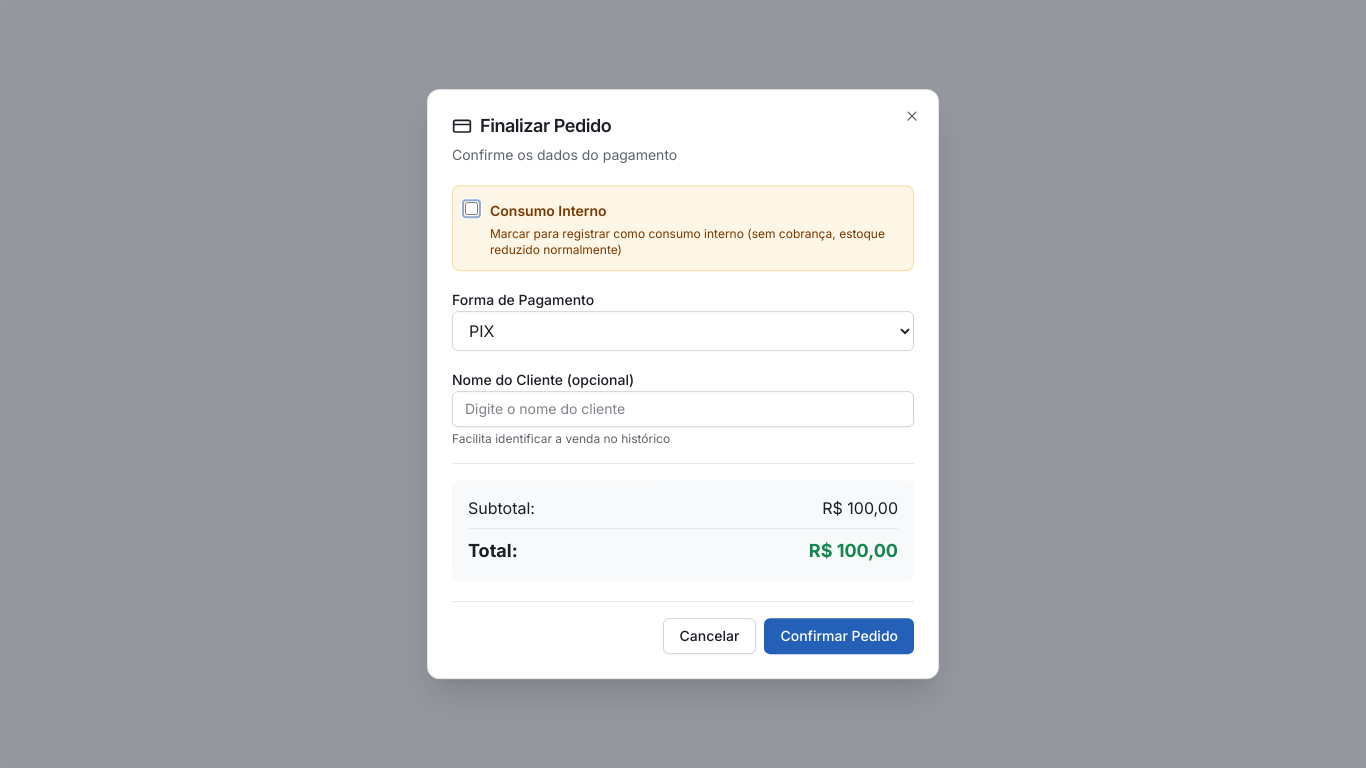
Test: ModalFinalizarPedido - Consumo Interno Checkbox › quando desmarcado: campos voltam ao normal
Click the checkbox labelled "Consumo Interno" at (472, 208), box x1=465 y1=202 x2=478 y2=215
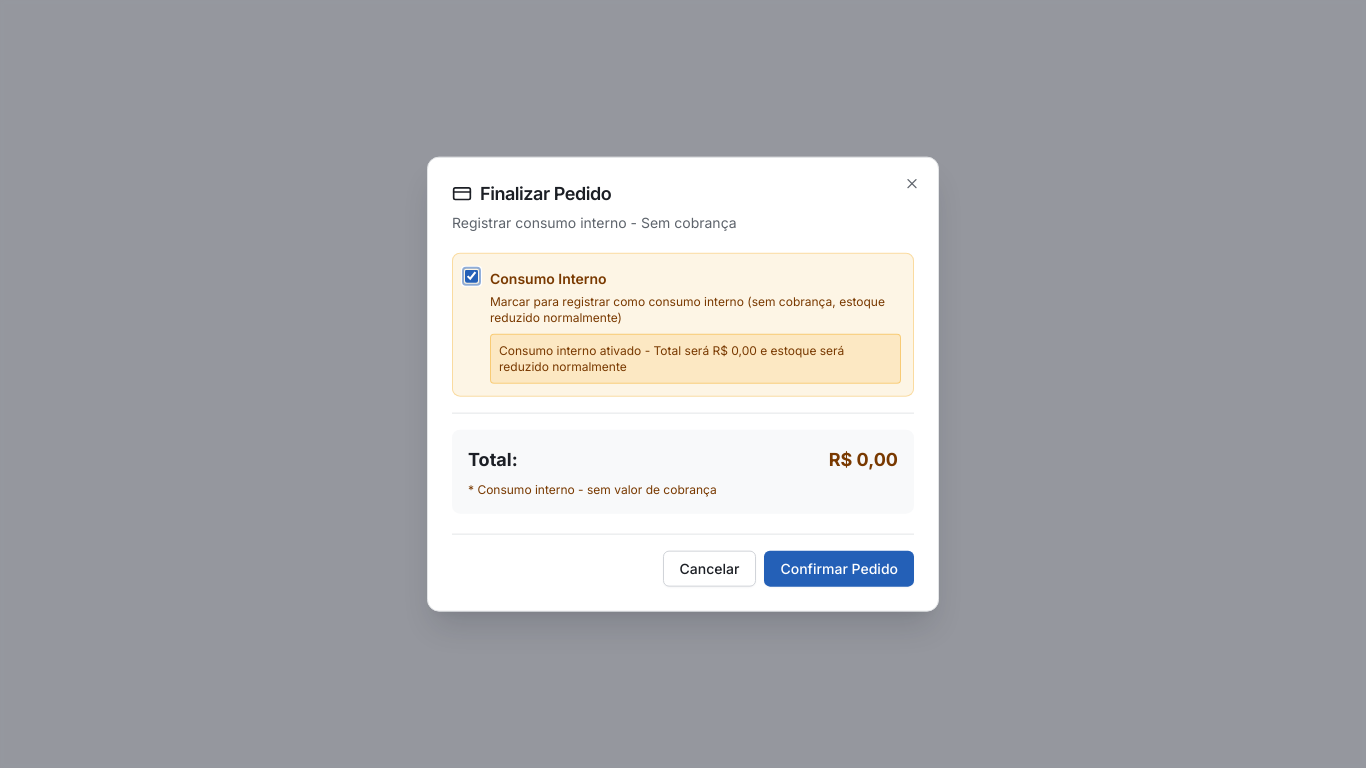
Expected: the text "R$ 0,00" is shown, x1=829 y1=445 x2=898 y2=473
Click the checkbox labelled "Consumo Interno" at (472, 276), box x1=465 y1=269 x2=478 y2=282
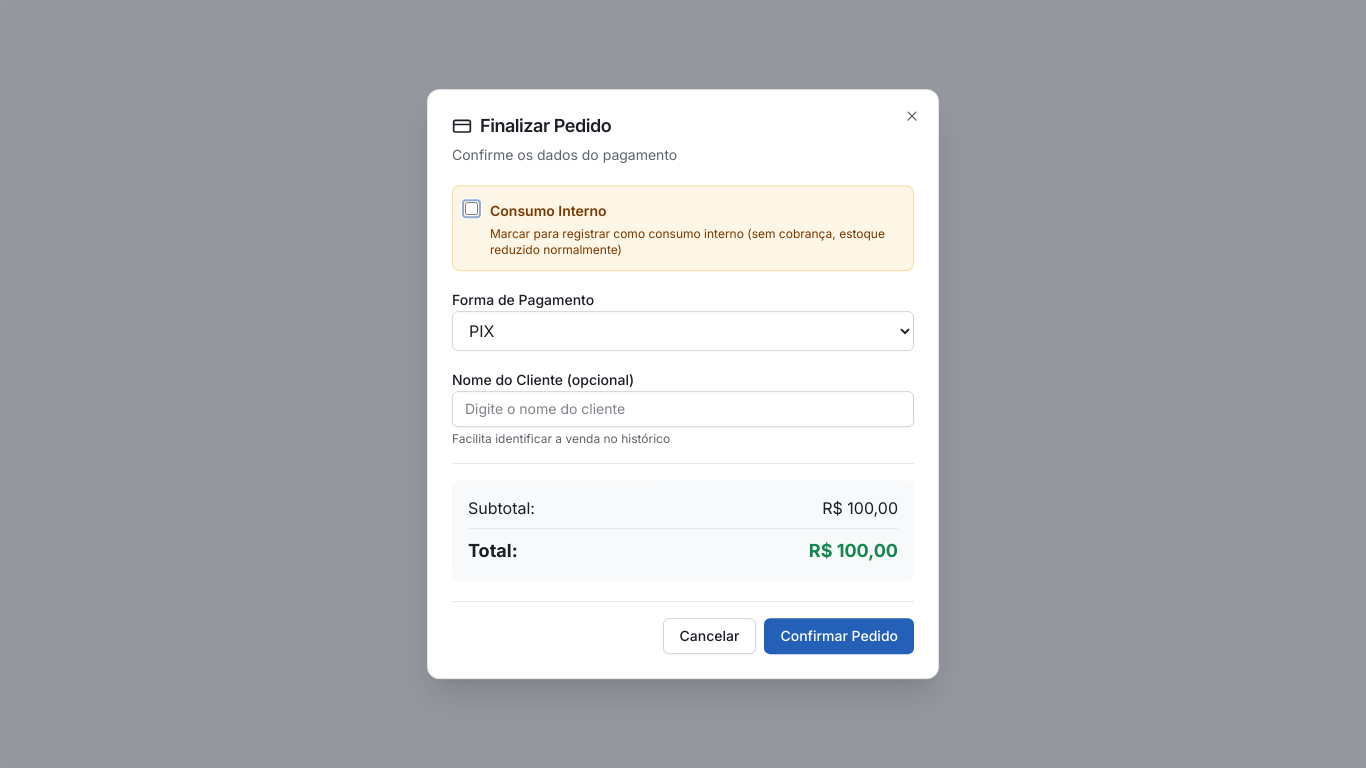
Expected: the text "R$ 100,00" in the row of "Subtotal:" is shown, x1=822 y1=496 x2=898 y2=520
